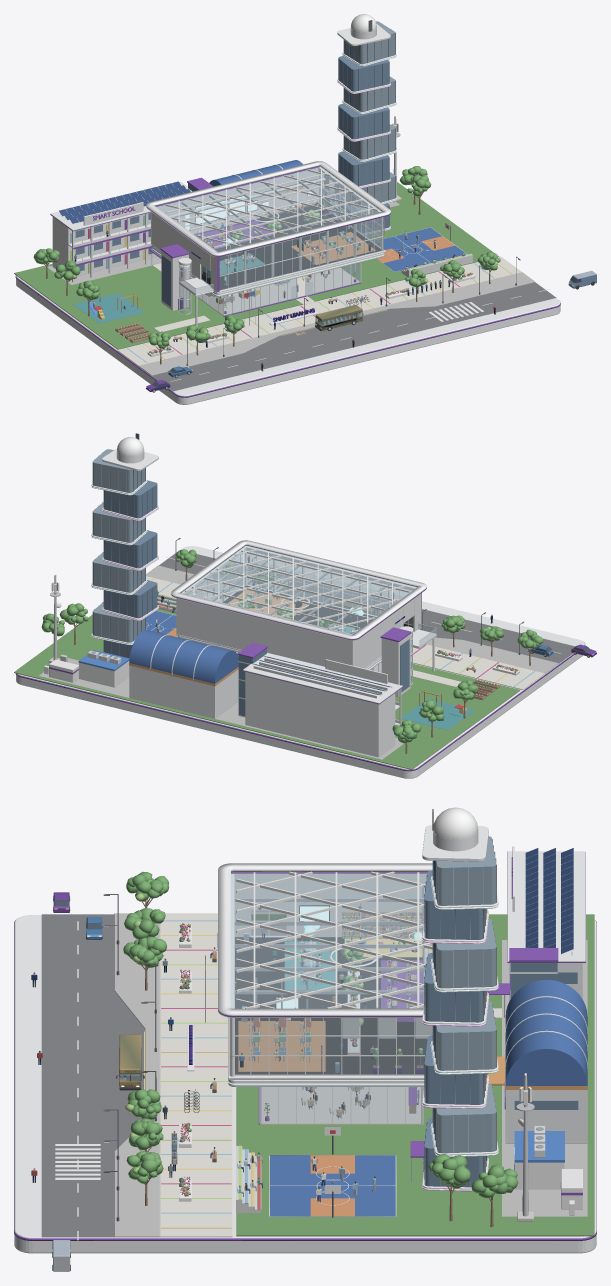
The model's file is smart_learning.glb.
3 views of the same model, one above another, from view 1: azimuth 30°, elevation 25°; view 2: azimuth 150°, elevation 25°; view 3: azimuth 270°, elevation 25° (orthographic). The views are drawn at different scales.
Parts seen in each view (by area): view 1: bake-static_site, bake-static_building, bake-static_tower, glass-static_building-glass, vbake-static_site, vbake-static_building, vbake-static_tower, bake-hot-assessment, schoolbus, bake-hot-ai-learning, glass-static_site-glass; view 2: bake-static_tower, bake-static_site, bake-static_building, glass-static_building-glass, vbake-static_site, vbake-static_building, vbake-static_tower, bake-hot-assessment; view 3: bake-static_site, bake-static_tower, glass-static_building-glass, bake-static_building, vbake-static_site, vbake-static_building, vbake-static_tower, bake-hot-assessment, schoolbus, bake-hot-cloud-lms, bake-hot-iot-classrooms, vbake-hot-assessment (+1 smaller).
Boxes of the visible parts, box(x1,y1,x2,y2) form: bake-static_site: box(14, 182, 560, 404); bake-static_building: box(146, 161, 390, 316); bake-static_tower: box(50, 14, 401, 282); glass-static_building-glass: box(157, 167, 382, 315); vbake-static_site: box(33, 166, 549, 381); vbake-static_building: box(165, 168, 383, 315); vbake-static_tower: box(59, 20, 400, 273); bake-hot-assessment: box(291, 232, 375, 264); schoolbus: box(315, 305, 363, 331); bake-hot-ai-learning: box(195, 195, 273, 249); glass-static_site-glass: box(179, 265, 213, 313); bake-static_tower: box(48, 437, 403, 757); bake-static_site: box(14, 546, 585, 778); bake-static_building: box(171, 540, 426, 672); glass-static_building-glass: box(182, 546, 416, 672); vbake-static_site: box(41, 538, 560, 753); vbake-static_building: box(185, 548, 409, 671); vbake-static_tower: box(44, 433, 398, 718); bake-hot-assessment: box(228, 588, 308, 618); bake-static_site: box(14, 913, 596, 1253); bake-static_tower: box(410, 807, 587, 1221); glass-static_building-glass: box(231, 873, 432, 1123); bake-static_building: box(218, 863, 432, 1124); vbake-static_site: box(55, 871, 518, 1240); vbake-static_building: box(217, 871, 432, 1123); vbake-static_tower: box(411, 809, 574, 1215); bake-hot-assessment: box(238, 1021, 325, 1071); schoolbus: box(116, 1034, 144, 1090); bake-hot-cloud-lms: box(284, 905, 335, 989); bake-hot-iot-classrooms: box(329, 948, 432, 1038); vbake-hot-assessment: box(241, 997, 322, 1072).
Bounding box in the file's own units: 97.79 × 46.48 × 64.08.
